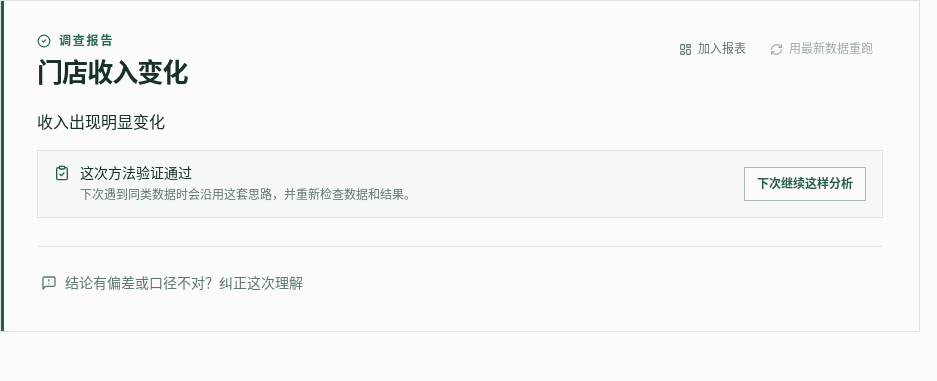
Test case: AssistantMessageCard › keeps standing-analysis failures in product language
This screenshot has width=937, height=381.
Click the button "下次继续这样分析" at (805, 184), box [744,166,866,200]
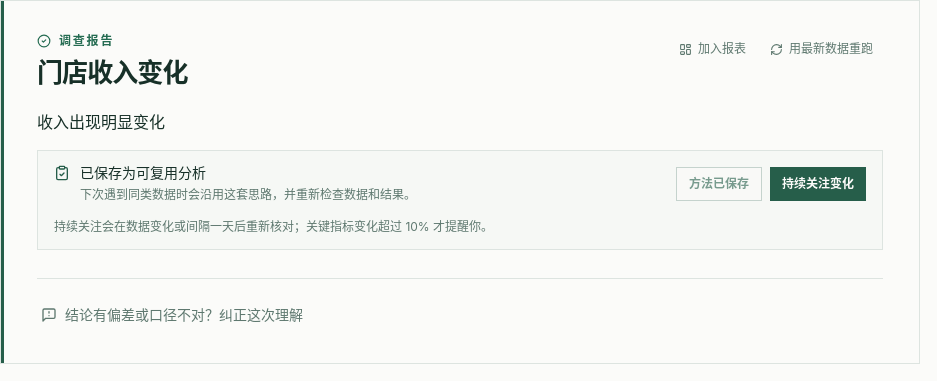
Click the button "持续关注变化" at (818, 184), box [770,166,866,200]
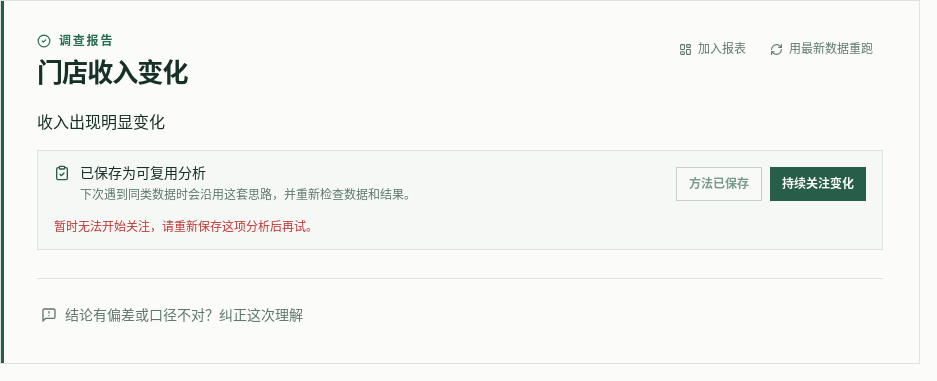
Expected: the text "暂时无法开始关注，请重新保存这项分析后再试。" is shown, [54,218,318,234]
